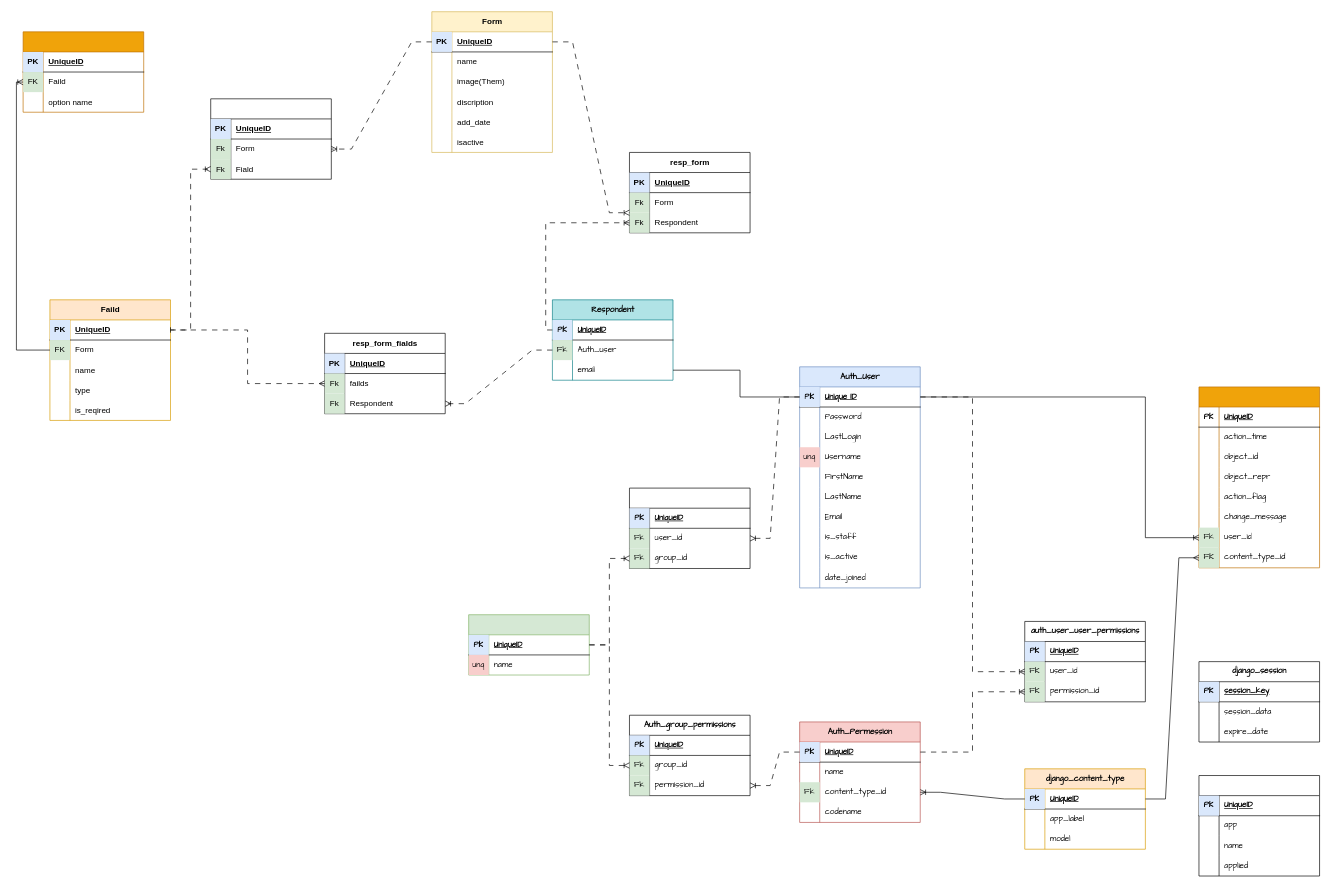
This 1331x888 diagram has some shape labels left out. Here are the shapes that lost their labels. From the top down, the box of each, then its label:
(22, 31, 144, 112): Faild (Options&radois)
(210, 98, 331, 179): Form_failds
(1198, 386, 1320, 568): django_admin_log
(629, 487, 750, 568): Auth_user_group
(468, 614, 589, 675): Auth_group
(1198, 775, 1320, 876): django_migrations
